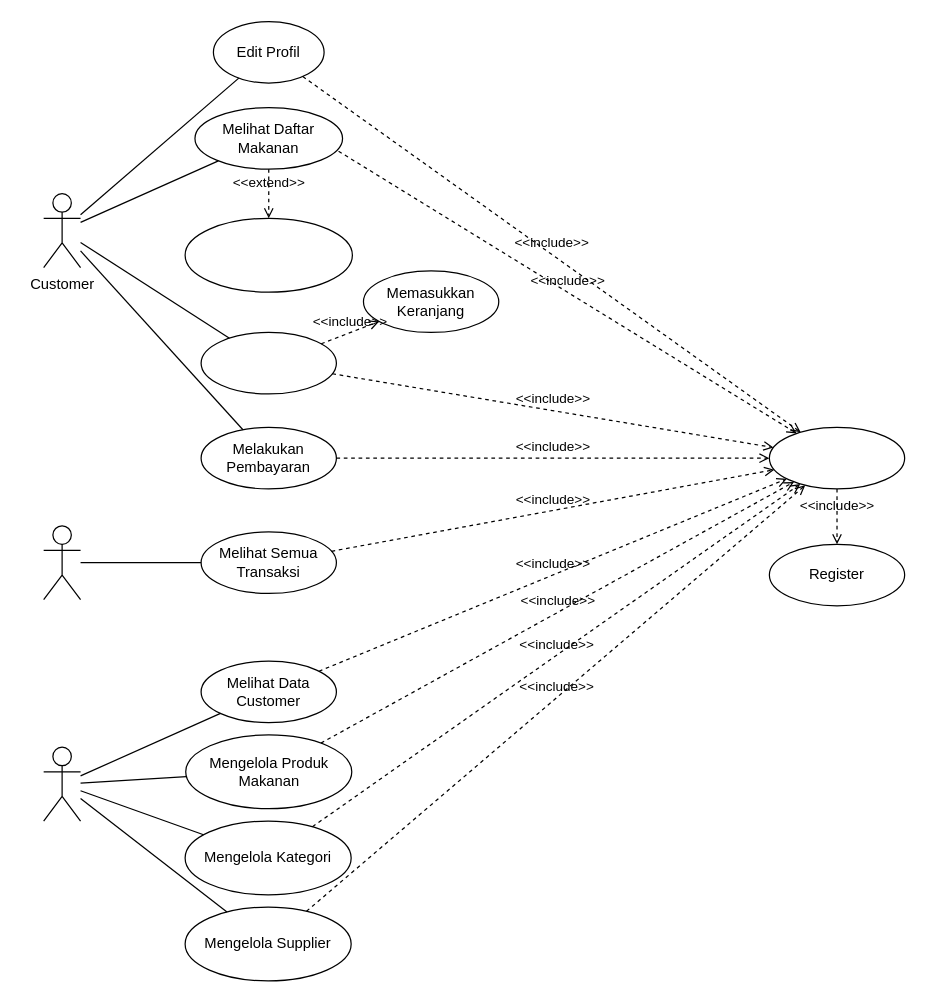
Image size: 926x1002. Some labels were removed from this diagram. Each missing label, with the box of its shape:
Administator: (42, 746, 81, 821)
Login: (768, 426, 905, 489)
Manager: (42, 525, 81, 600)
Melakukan Transaksi: (200, 331, 336, 394)
Menyaring Berdasarkan Kategori: (184, 217, 352, 292)
